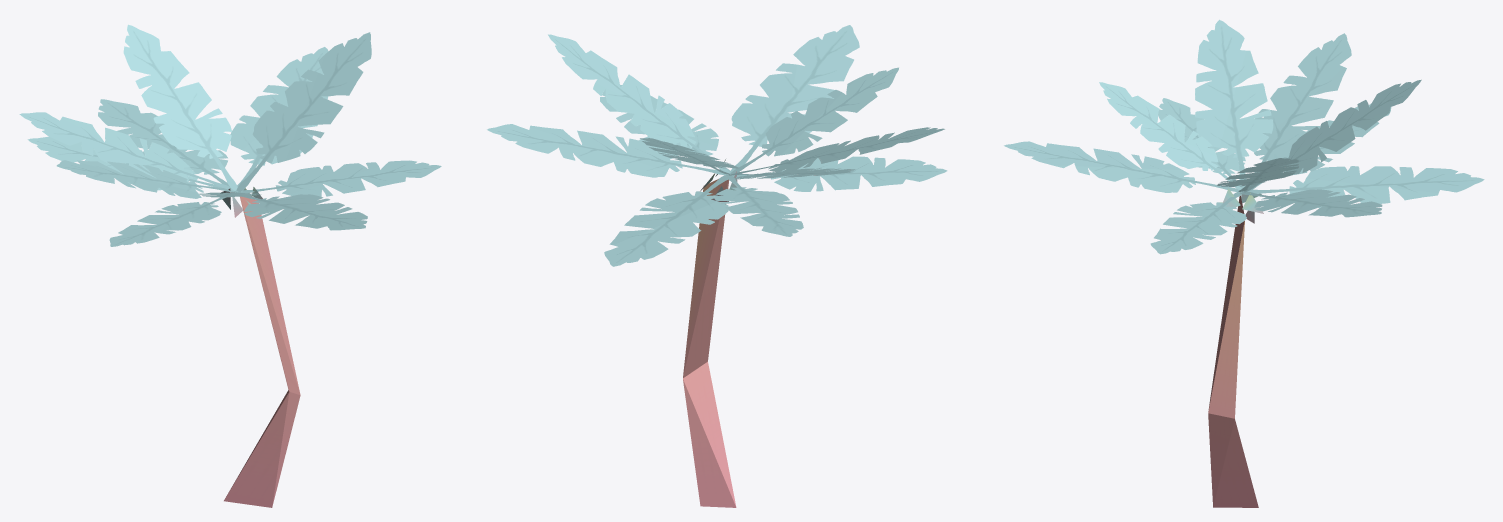
The model's file is LOD2cocotreev1.fbx.
3 views of the same model, side by side, from view 1: azimuth 30°, elevation 25°; view 2: azimuth 150°, elevation 25°; view 3: azimuth 270°, elevation 25° (orthographic). The views are drawn at different scales.
Visible parts, largest first — view 1: palmtree_04.011; view 2: palmtree_04.011; view 3: palmtree_04.011.
Part boxes in pixels (box(x1,y1,x2,y2)): palmtree_04.011: box(19, 24, 441, 507); palmtree_04.011: box(487, 25, 947, 507); palmtree_04.011: box(1004, 19, 1484, 507).
Bounding box in the file's own units: 716 × 762 × 818.
